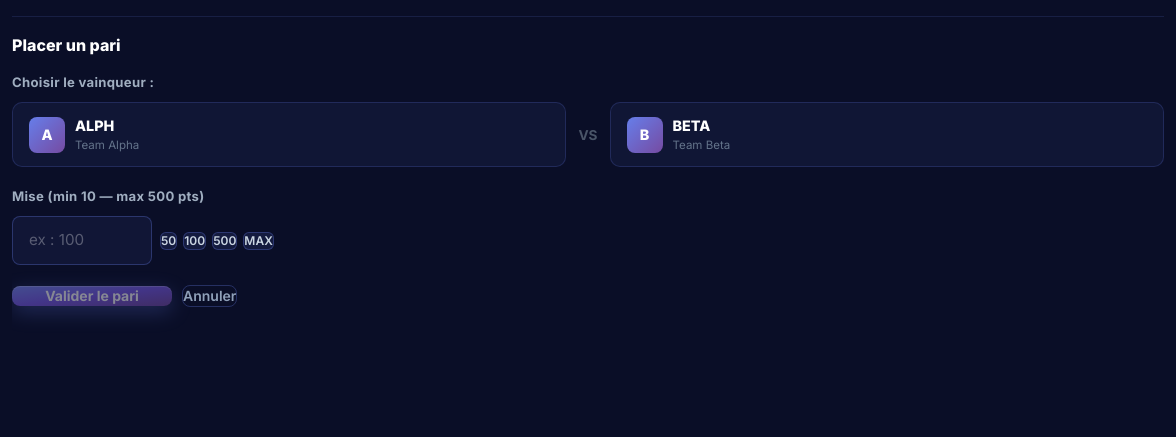
PariForm › affiche une erreur si mise inférieure à 10
Click the text "ALPH" at (95, 126), box [75, 117, 114, 134]
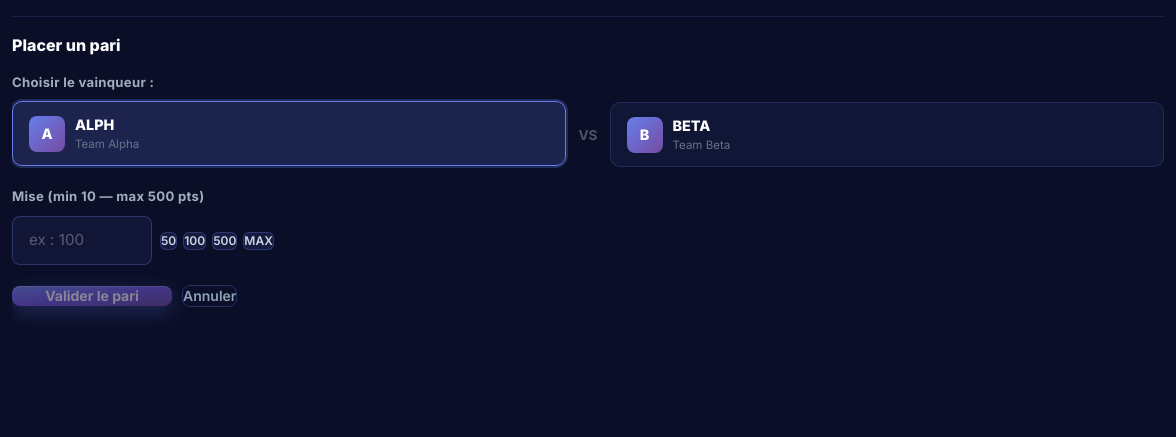
Type "5" into the number field at (82, 241), box [12, 216, 152, 265]
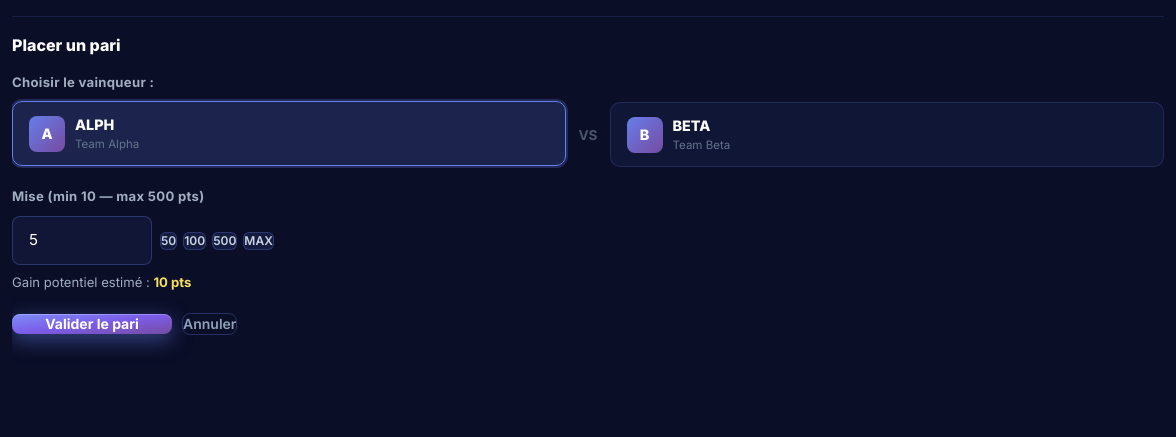
Submit the form named "Valider le pari", box [12, 73, 1164, 335]
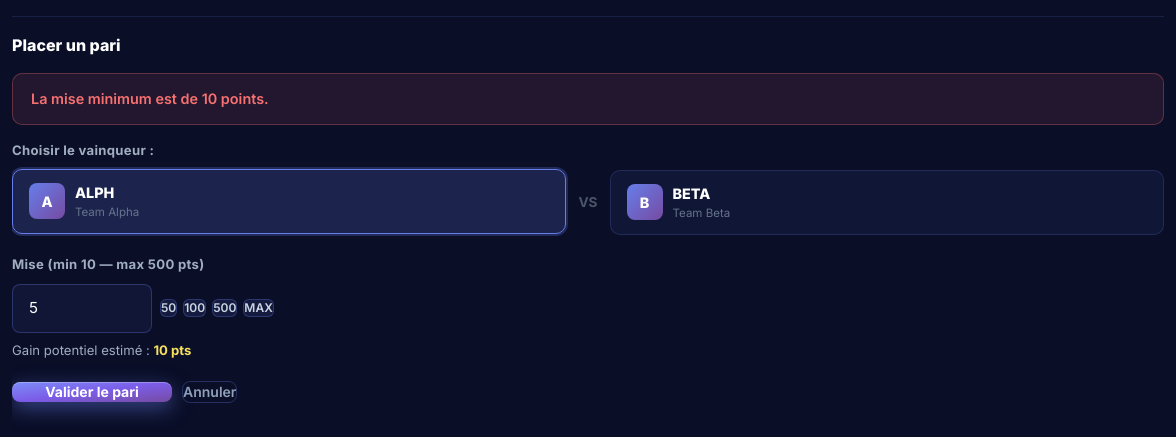
Now the text "La mise minimum est de 10 points." is shown, box [12, 73, 1164, 125]
